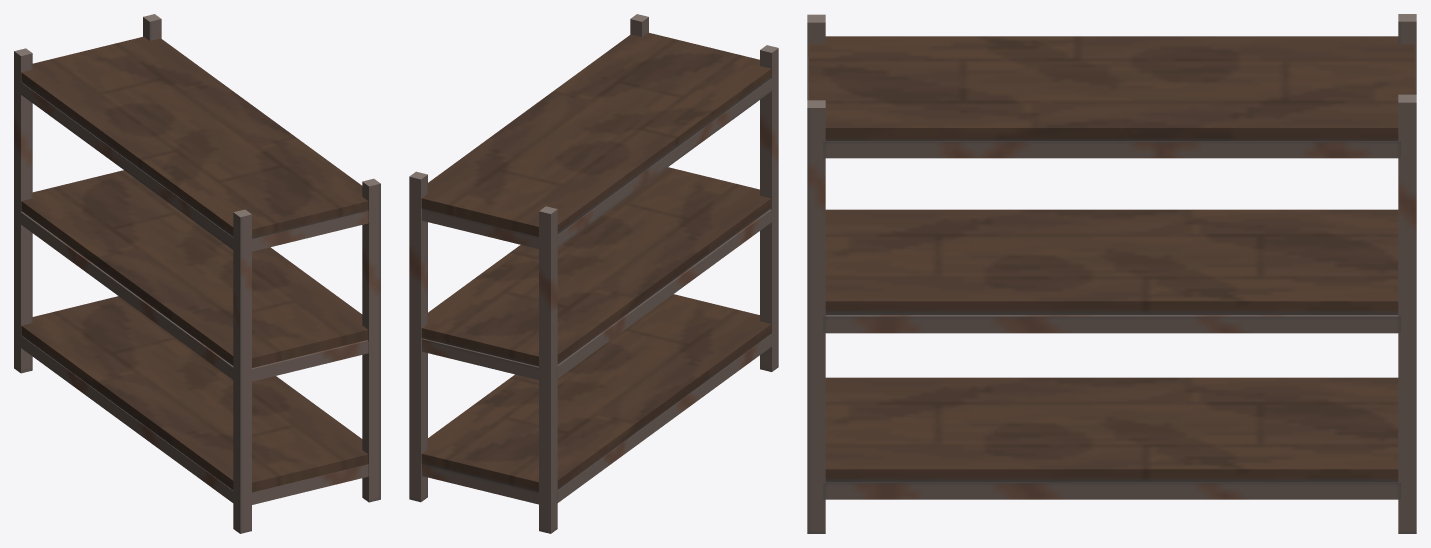
Rendered from obj_shelf_half.fbx.
3 renders of one model, left to right at view 1: azimuth 30°, elevation 25°; view 2: azimuth 150°, elevation 25°; view 3: azimuth 270°, elevation 25°, orthographic. The views are drawn at different scales.
Visible parts, largest first — view 1: obj_shelf_half; view 2: obj_shelf_half; view 3: obj_shelf_half.
Boxes of the visible parts, left/top/right/bottom form: obj_shelf_half: left=14, top=14, right=380, bottom=533; obj_shelf_half: left=409, top=14, right=778, bottom=533; obj_shelf_half: left=807, top=14, right=1416, bottom=533.
Size of the model in its own units: 34.4 by 74.85 by 95.8.
